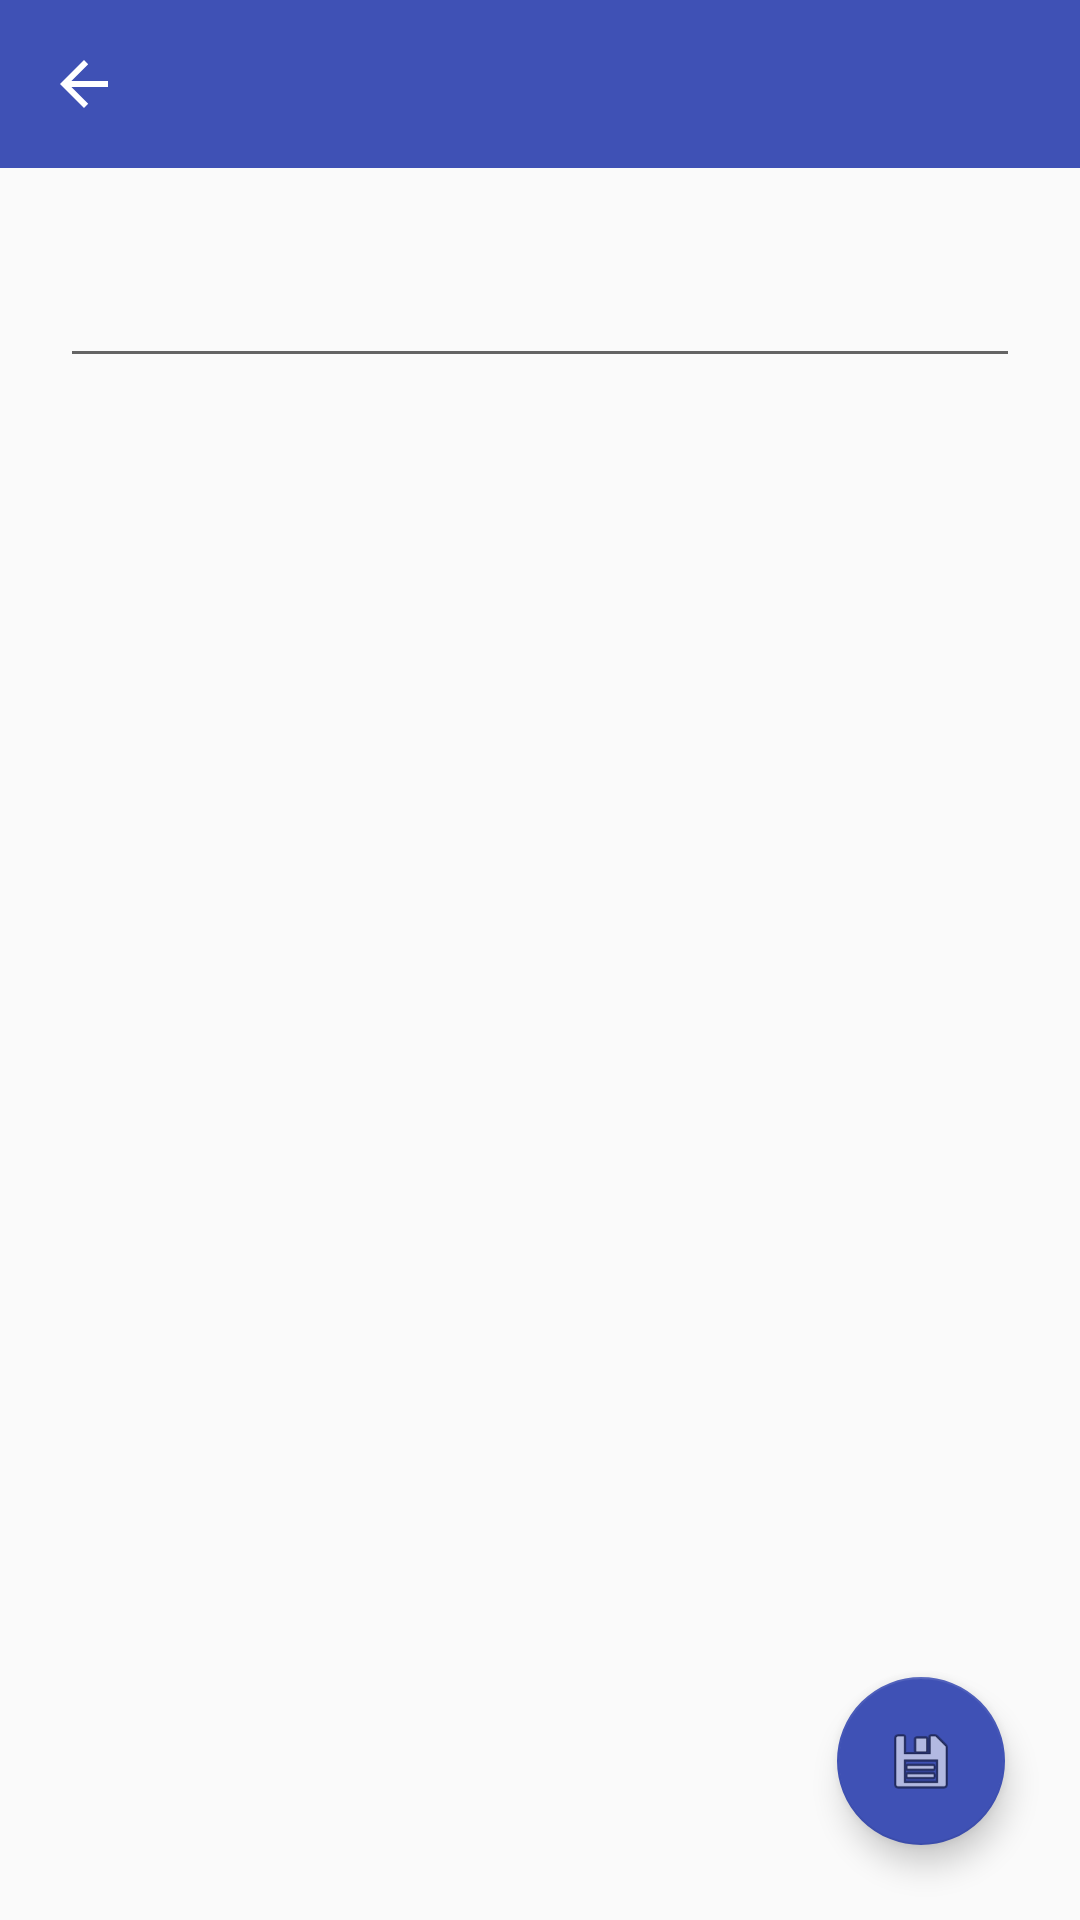

Icons on this 1080 x 1920 Android screen, each with its box as (x1, y1, x2, y2):
save: (837, 1677, 1005, 1845)
